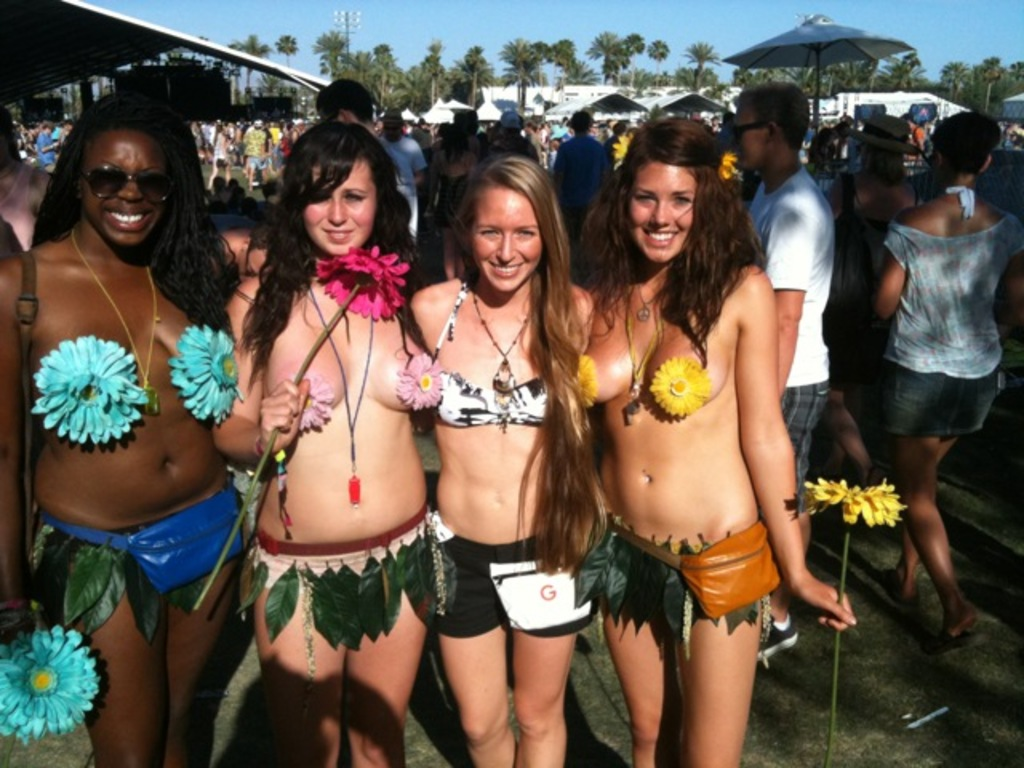face: (79, 129, 176, 244)
